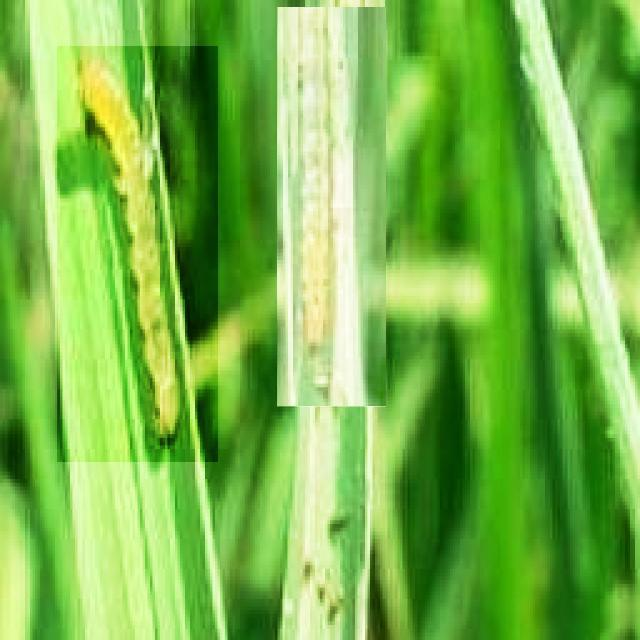leaf-folder: (57, 46, 218, 462), (277, 8, 386, 408)
